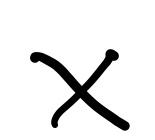mult: (28, 48, 129, 132)
